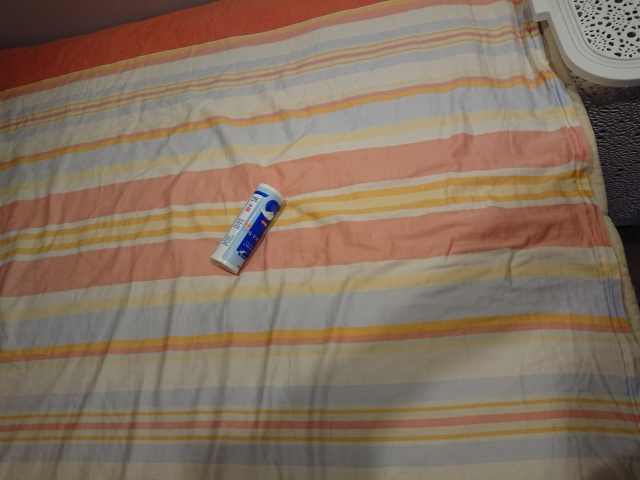Solana Pag Fine Sea Salt 250g: (207, 179, 289, 278)
